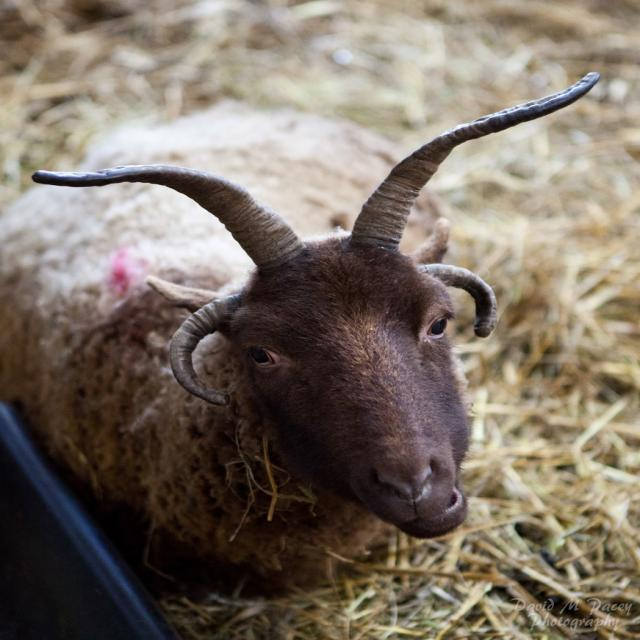Sheep: (0, 72, 600, 575)
